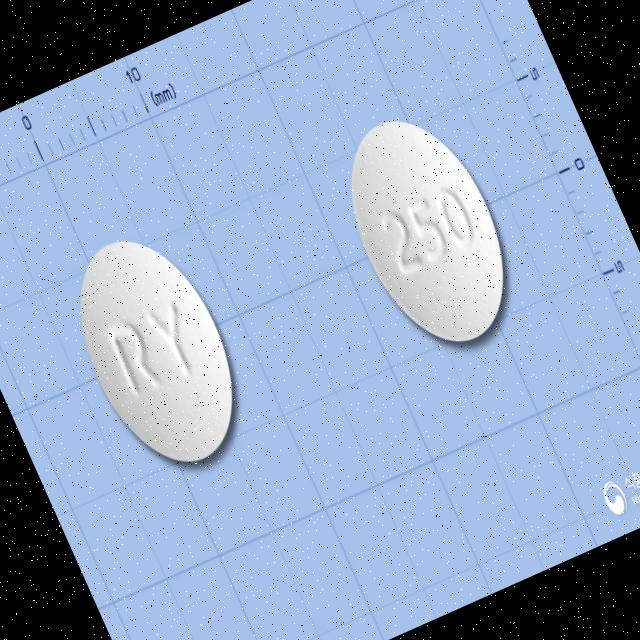Azaprine -25mg: (48, 214, 264, 486), (321, 97, 535, 366)
